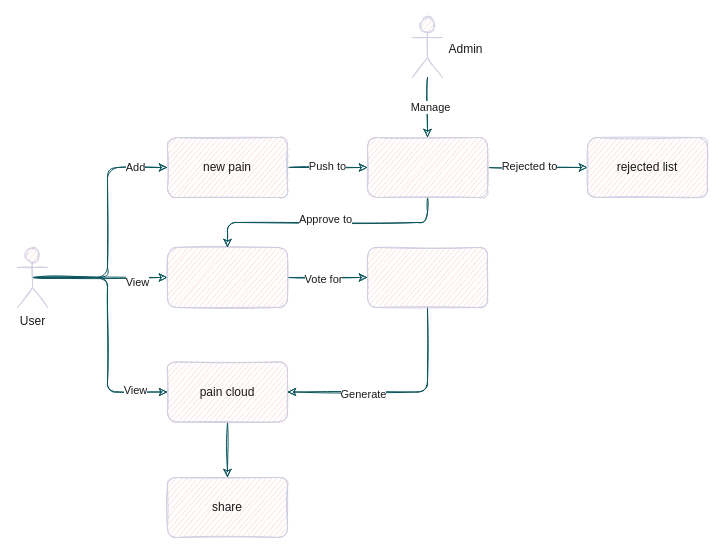
Image size: 725x555. Some labels were removed from this diagram. The centre of each missing label's shape, as x and y in pixels:
full pain list: (x=427, y=167)
painful item: (x=427, y=277)
top pain list: (x=227, y=277)
